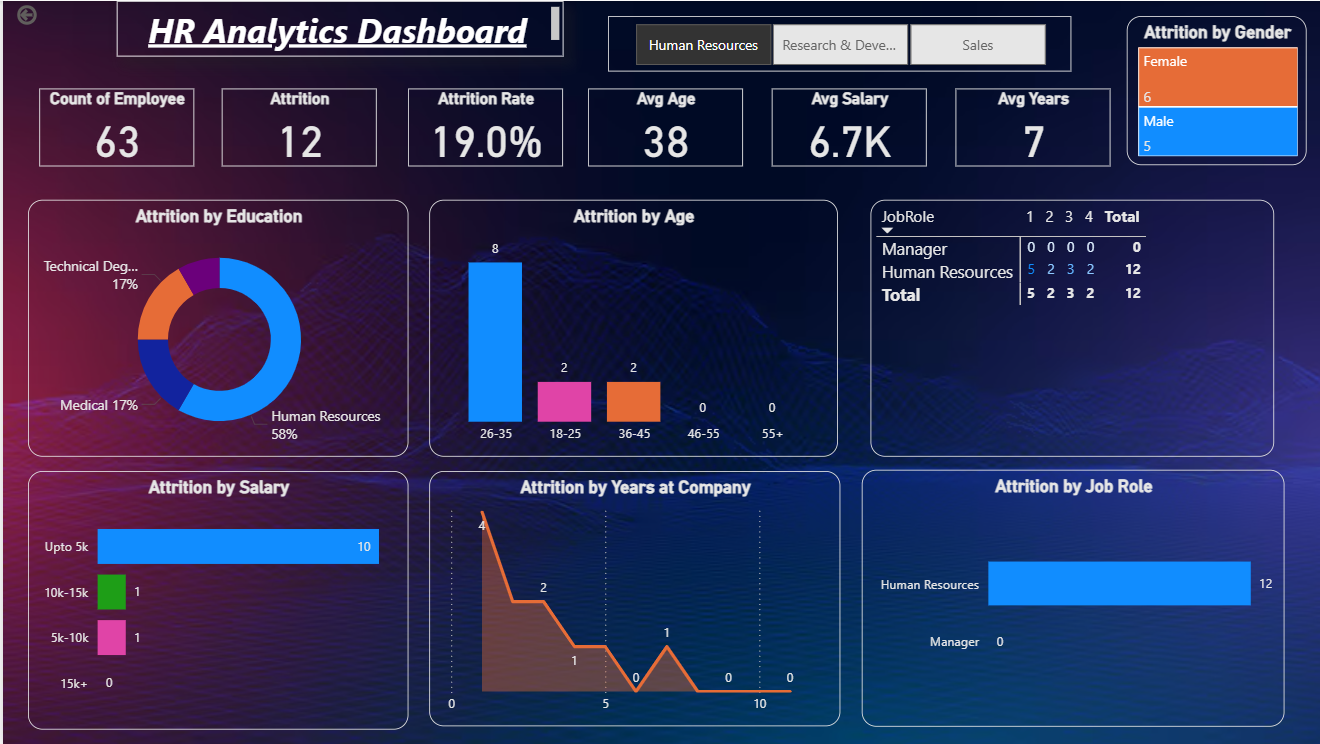

Layout of this report page (visuals, bound fields, positions):
{"tool":"powerbi","page":{"name":"Page 1","canvas":[1280,720],"ordinal":0},"visuals":[{"type":"card","title":"Count of Employee","fields":{"Values":["CountNonNull(HR_Analytics.EmpID)"]},"box":[35.3,84,149.5,75.6],"z":0},{"type":"card","title":"Attrition","fields":{"Values":["Sum(HR_Analytics.AttritionCount)"]},"box":[211.7,84,149.5,75.6],"z":1000},{"type":"card","title":"Attrition Rate","fields":{"Values":["HR_Analytics.AttritionRate"]},"box":[391.4,84,149.5,75.6],"z":2000},{"type":"card","title":"Avg Age","fields":{"Values":["Avg(HR_Analytics.Age)"]},"box":[564.4,84,149.5,75.6],"z":3000},{"type":"actionButton","box":[10.1,0,100.8,26.9],"z":4000},{"type":"card","title":"Avg Salary","fields":{"Values":["Avg(HR_Analytics.MonthlyIncome)"]},"box":[742.5,84,149.5,75.6],"z":5000},{"type":"card","title":"Avg Years","fields":{"Values":["Avg(HR_Analytics.YearsAtCompany)"]},"box":[918.8,84,149.5,75.6],"z":6000},{"type":"donutChart","title":"Attrition by Education","fields":{"Y":["Sum(HR_Analytics.AttritionCount)"],"Category":["HR_Analytics.EducationField","HR_Analytics.YearsAtCompany"]},"box":[24.1,191.3,367.1,248],"z":7000},{"type":"columnChart","title":"Attrition by Age","fields":{"Category":["HR_Analytics.AgeGroup"],"Y":["Sum(HR_Analytics.AttritionCount)"]},"box":[411,191.3,394,248],"z":8000},{"type":"pivotTable","fields":{"Rows":["HR_Analytics.JobRole"],"Columns":["HR_Analytics.JobSatisfaction"],"Values":["Sum(HR_Analytics.AttritionCount)"]},"box":[837.6,191.3,389.8,248],"z":9000},{"type":"barChart","title":"Attrition by Salary","fields":{"Category":["HR_Analytics.SalarySlab"],"Y":["Sum(HR_Analytics.AttritionCount)"]},"box":[24.1,453.5,367.1,249.4],"z":10000},{"type":"barChart","title":"Attrition by Job Role","fields":{"Category":["HR_Analytics.JobRole"],"Y":["Sum(HR_Analytics.AttritionCount)"]},"box":[829.1,452.1,408.2,248],"z":11000},{"type":"areaChart","title":"Attrition by Years at Company","fields":{"Category":["HR_Analytics.YearsAtCompany"],"Y":["Sum(HR_Analytics.AttritionCount)"]},"box":[411,453.5,396.9,246.6],"z":12000},{"type":"treemap","title":"Attrition by Gender","fields":{"Group":["HR_Analytics.Gender"],"Values":["Sum(HR_Analytics.AttritionCount)"]},"box":[1085,14.1,174,144.3],"z":13000},{"type":"slicer","fields":{"Values":["HR_Analytics.Department"]},"box":[584.2,14.1,447,53.8],"z":14000},{"type":"textbox","box":[110.3,0,431.4,53.8],"z":15000}]}

Visuals, with their boxes in screenshot pixels (x1, y1, x2, y2), scaled from the page's 1280x720 canvas onto the 1320x744 screenshot:
"Count of Employee" card: 36 87 191 165
"Attrition" card: 218 87 372 165
"Attrition Rate" card: 404 87 558 165
"Avg Age" card: 582 87 736 165
actionButton: 10 0 114 28
"Avg Salary" card: 766 87 920 165
"Avg Years" card: 948 87 1102 165
"Attrition by Education" donutChart: 25 198 403 454
"Attrition by Age" columnChart: 424 198 830 454
pivotTable - HR_Analytics.JobRole x HR_Analytics.JobSatisfaction: 864 198 1266 454
"Attrition by Salary" barChart: 25 469 403 726
"Attrition by Job Role" barChart: 855 467 1276 723
"Attrition by Years at Company" areaChart: 424 469 833 723
"Attrition by Gender" treemap: 1119 15 1298 164
slicer - HR_Analytics.Department: 602 15 1063 70
textbox: 114 0 559 56
